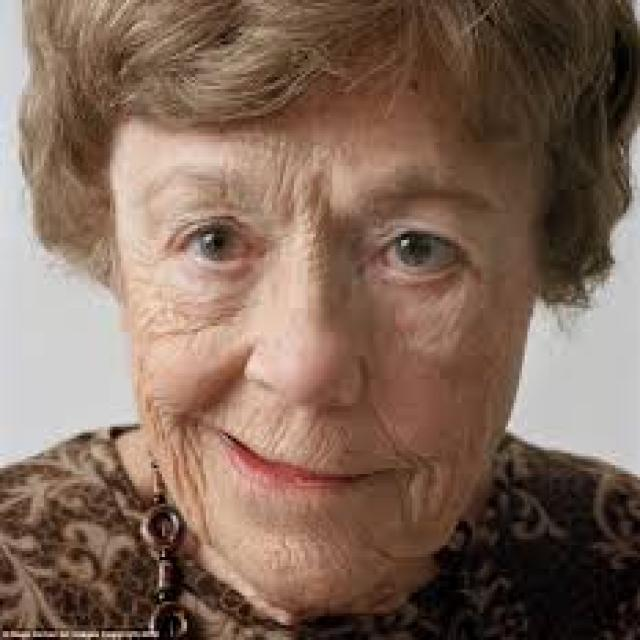stroke_face: (35, 4, 553, 613)
